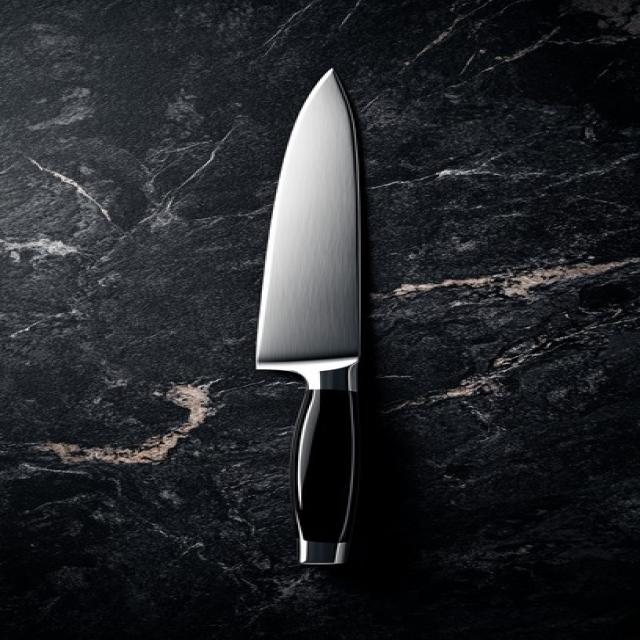Knife: (252, 67, 362, 564)
